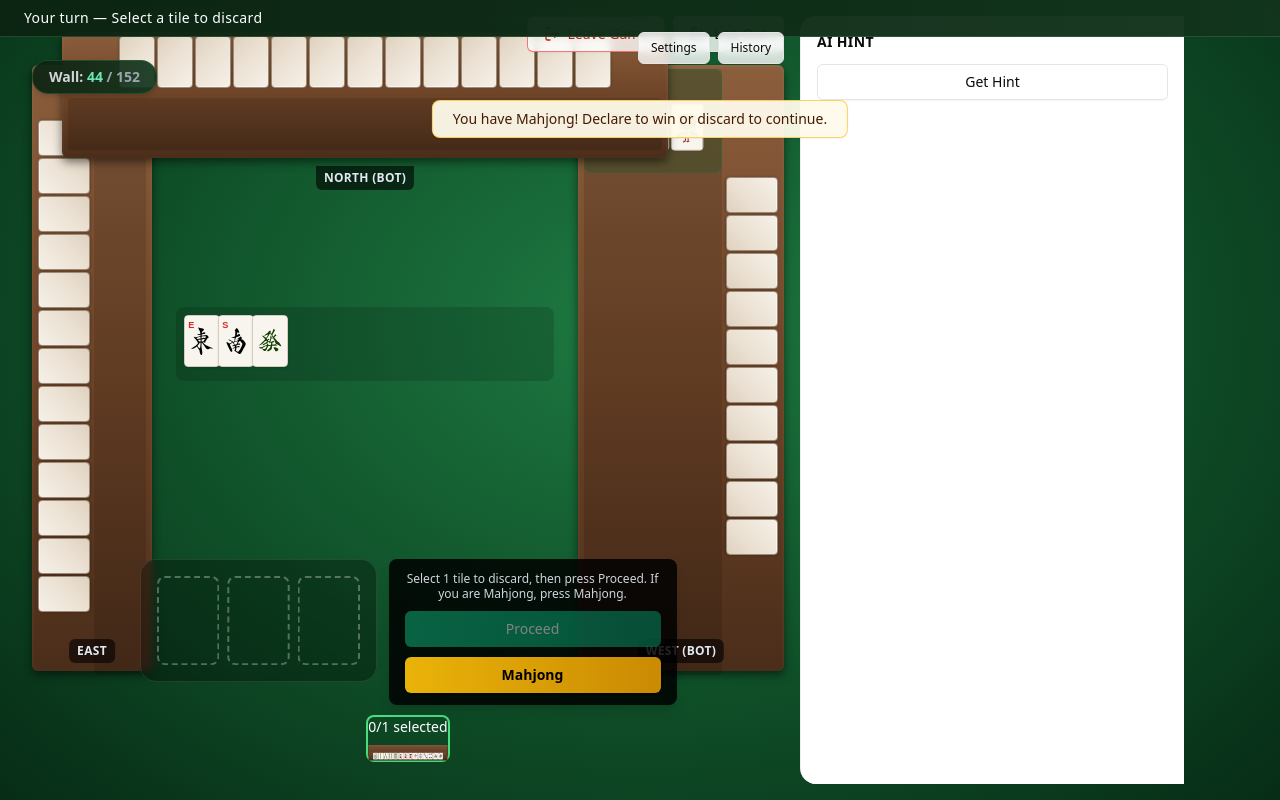
Test: Playing Phase Staging Flow (VR-012) › T-2: selecting discard candidate stages it to outgoing lane
// Tile 1 in this hand will have id '1-0', testId 'tile-1-1-0'
Click the button with test id "tile-1-1-0": (381, 756) [378,752,383,759]
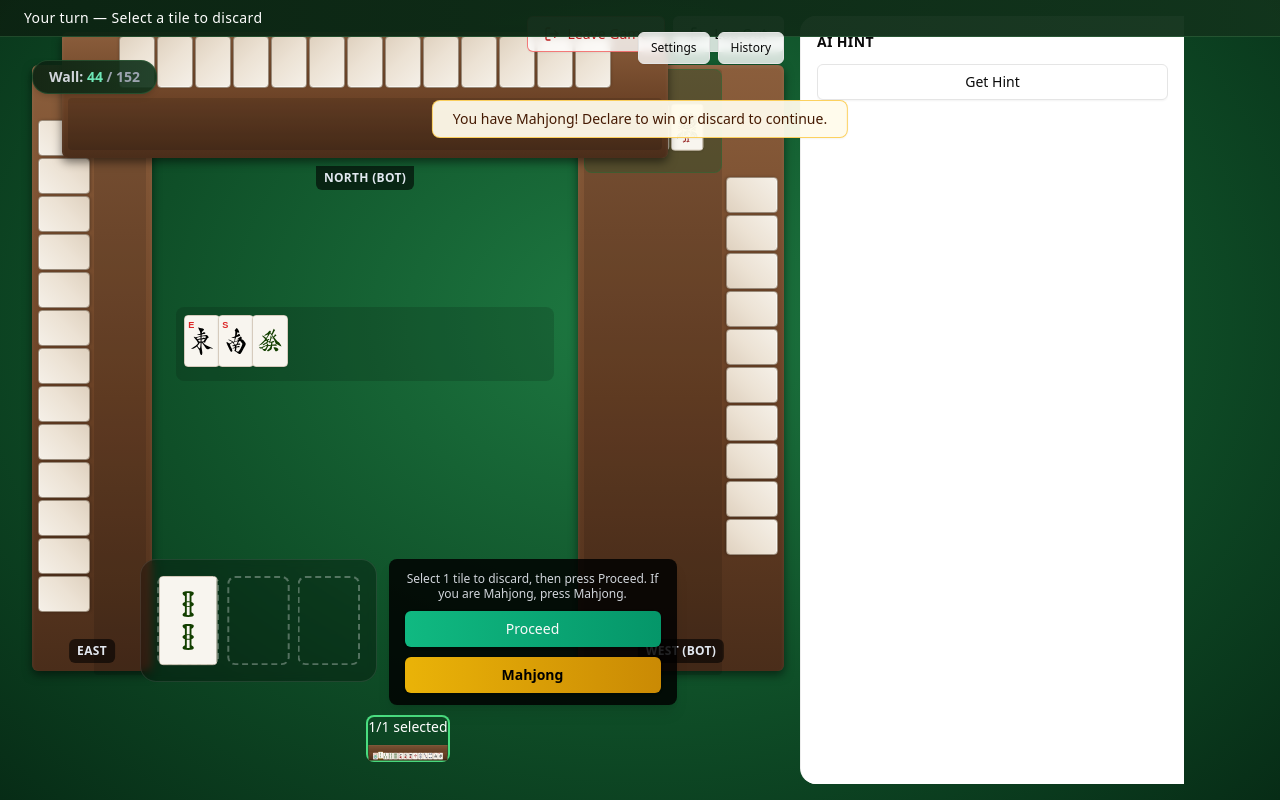
Now the button with test id "staging-outgoing-tile-1-0" is shown, box [158,576,217,665]
